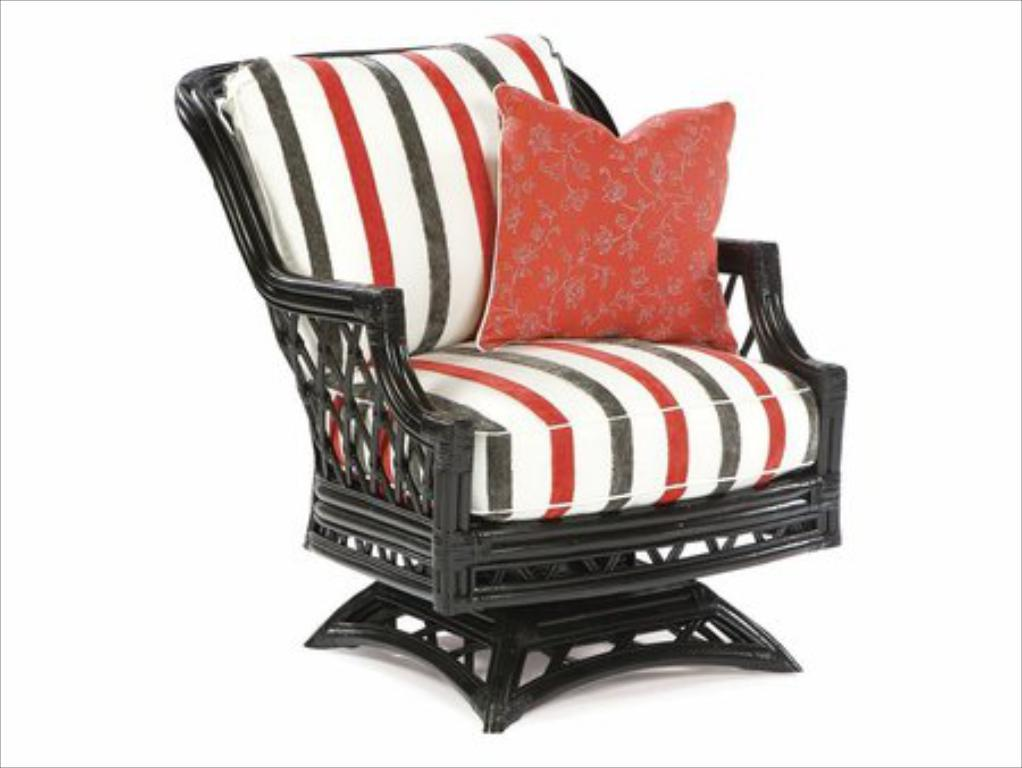Chair: (186, 59, 822, 761)
